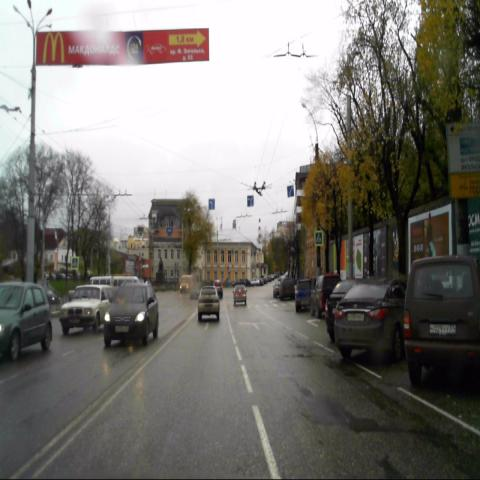5_16: (72, 256, 78, 269)
5_19_1: (314, 230, 323, 246)
